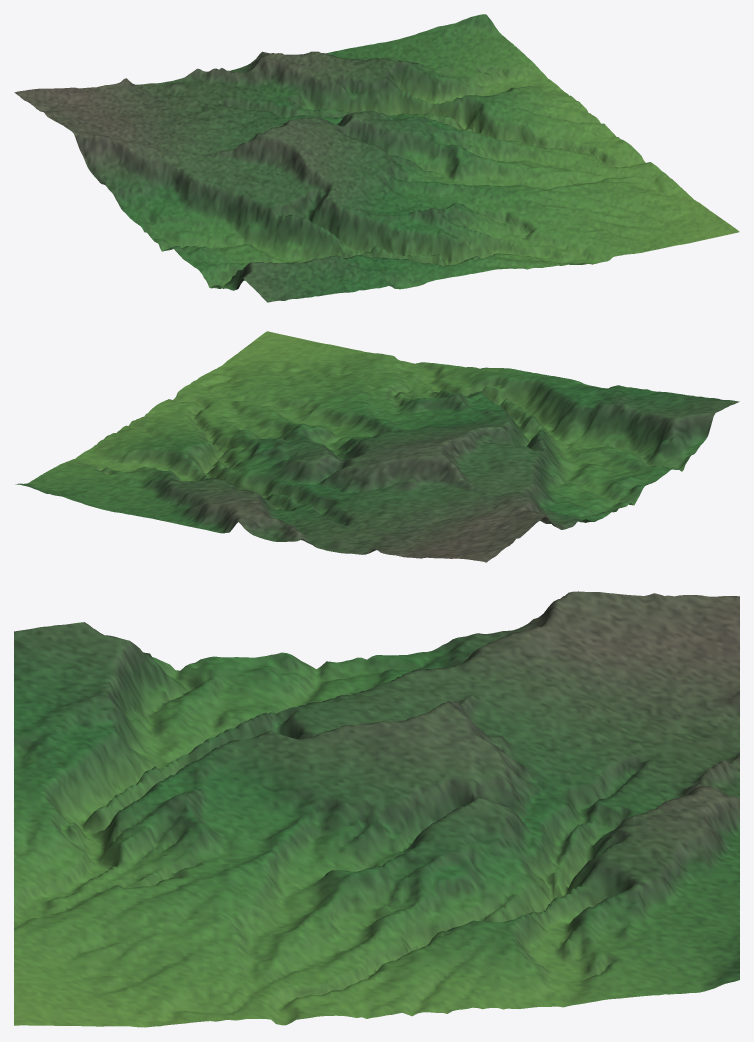
Rendered from lareunion-terrain-10.glb.
3 renders of one model, top to bottom at view 1: azimuth 30°, elevation 25°; view 2: azimuth 150°, elevation 25°; view 3: azimuth 270°, elevation 25°, orthographic. The views are drawn at different scales.
Parts seen in each view (by area): view 1: LaReunionRgeAltiTerrain_10; view 2: LaReunionRgeAltiTerrain_10; view 3: LaReunionRgeAltiTerrain_10.
Part boxes in pixels (bbox=[...]): LaReunionRgeAltiTerrain_10: bbox=[14, 14, 739, 302]; LaReunionRgeAltiTerrain_10: bbox=[15, 331, 739, 562]; LaReunionRgeAltiTerrain_10: bbox=[14, 591, 739, 1027].
Bounding box in the file's own units: 55.09 × 8.22 × 51.16.
